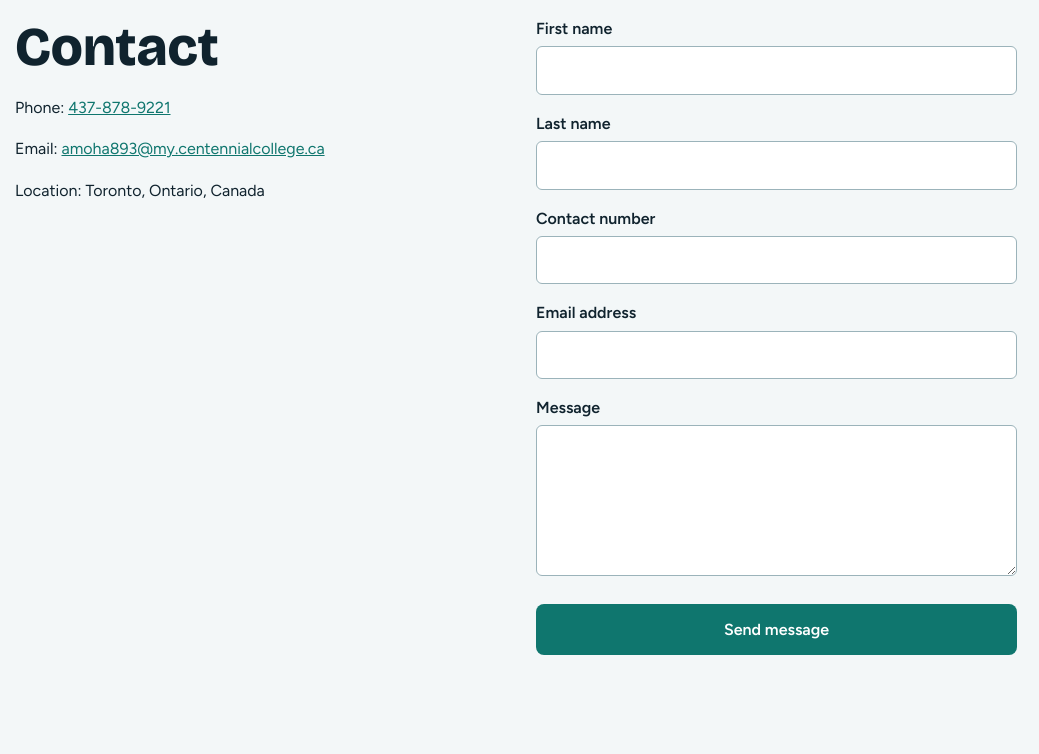
Scenario: Contact form › saves a valid message through POST /api/contacts and clears the form
This screenshot has width=1039, height=754.
Type "Sara" into the field labelled "First name" at (776, 71), box [536,46,1017,95]
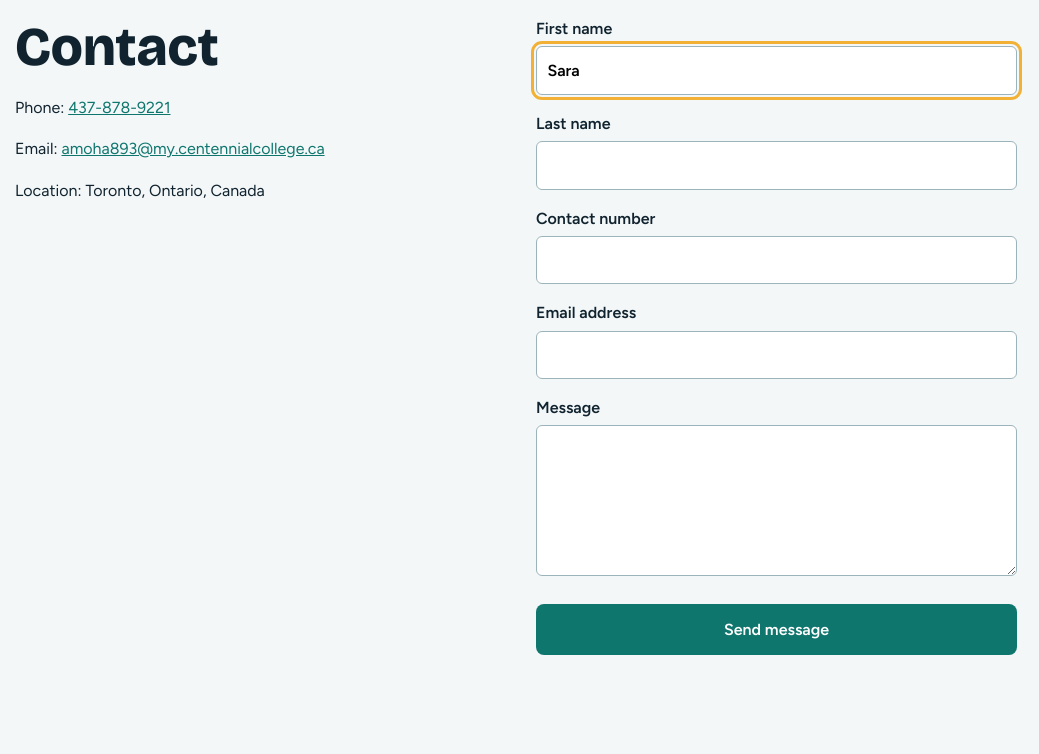
Type "Ahmadi" into the field labelled "Last name" at (776, 165), box [536,141,1017,190]
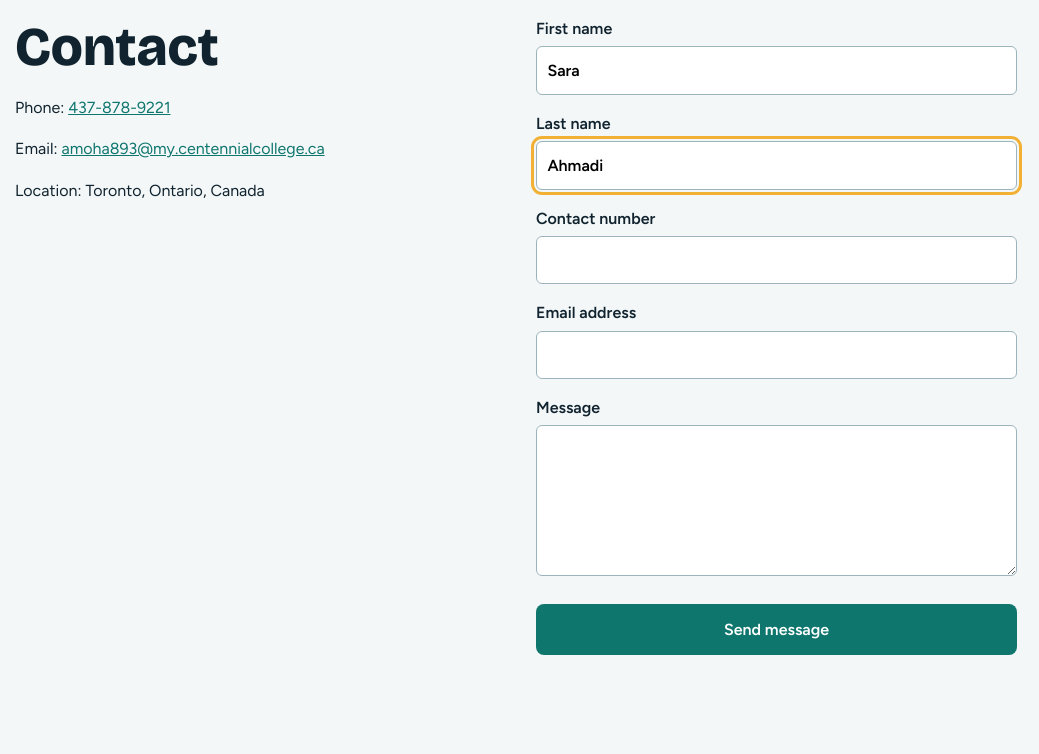
Type "sara@example.com" into the field labelled "Email address" at (776, 355), box [536,331,1017,379]
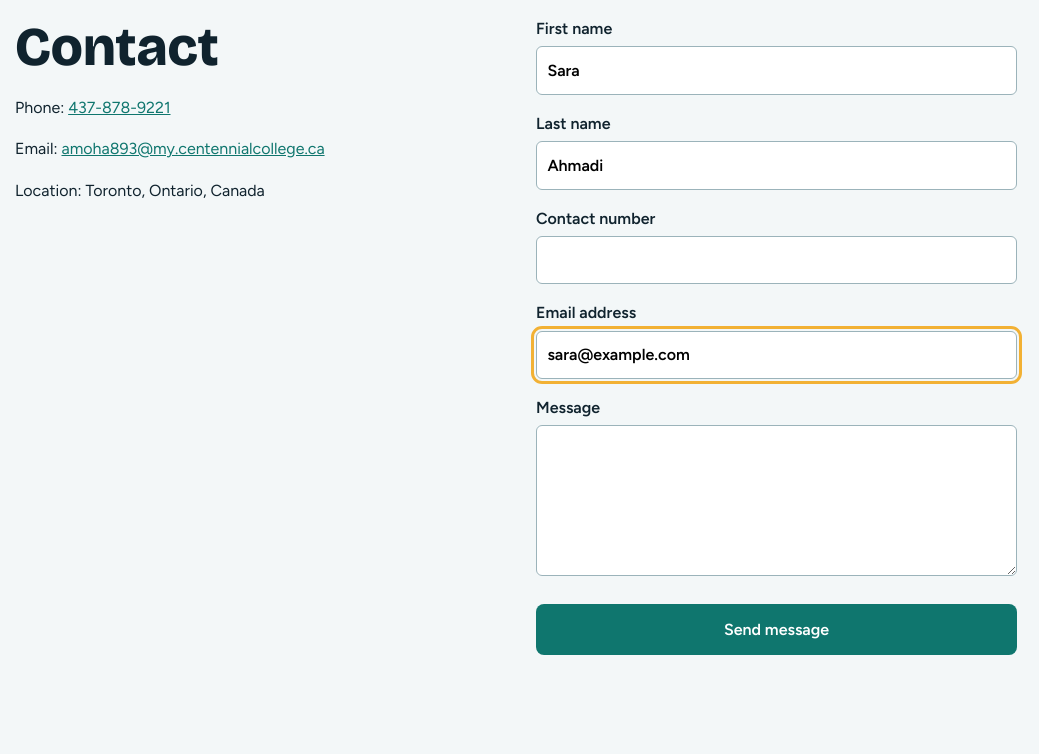
Type "Hello!" into the text box labelled "Message" at (776, 501), box [536,426,1017,576]
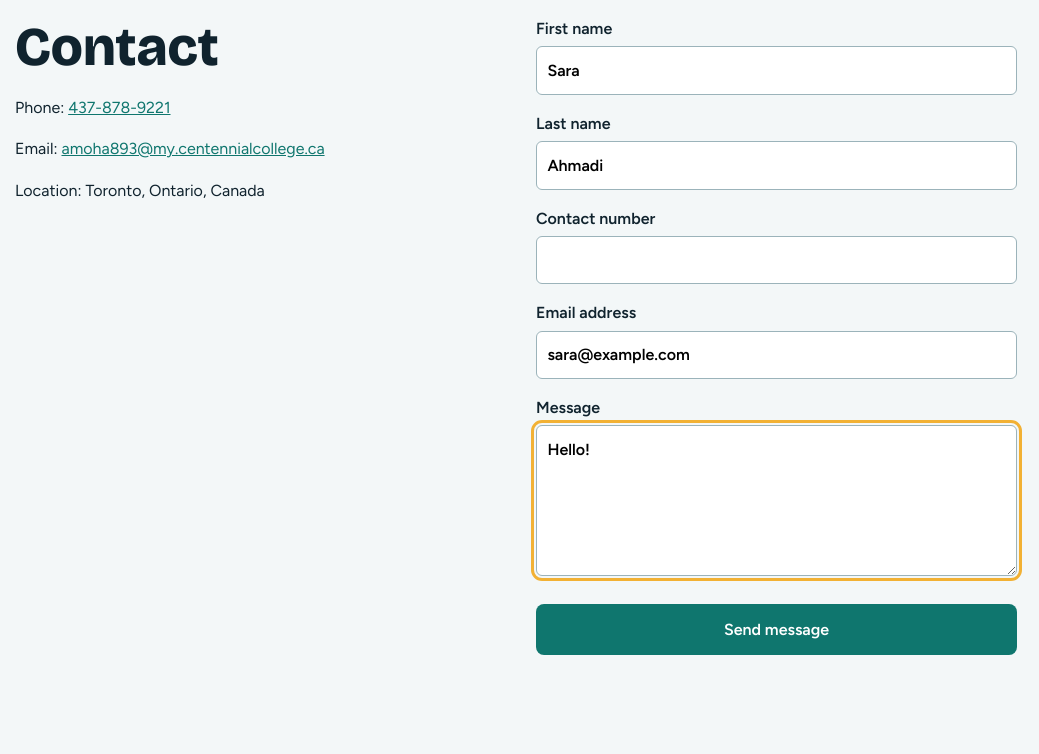
Click the button "Send message" at (776, 630), box [536,604,1017,655]
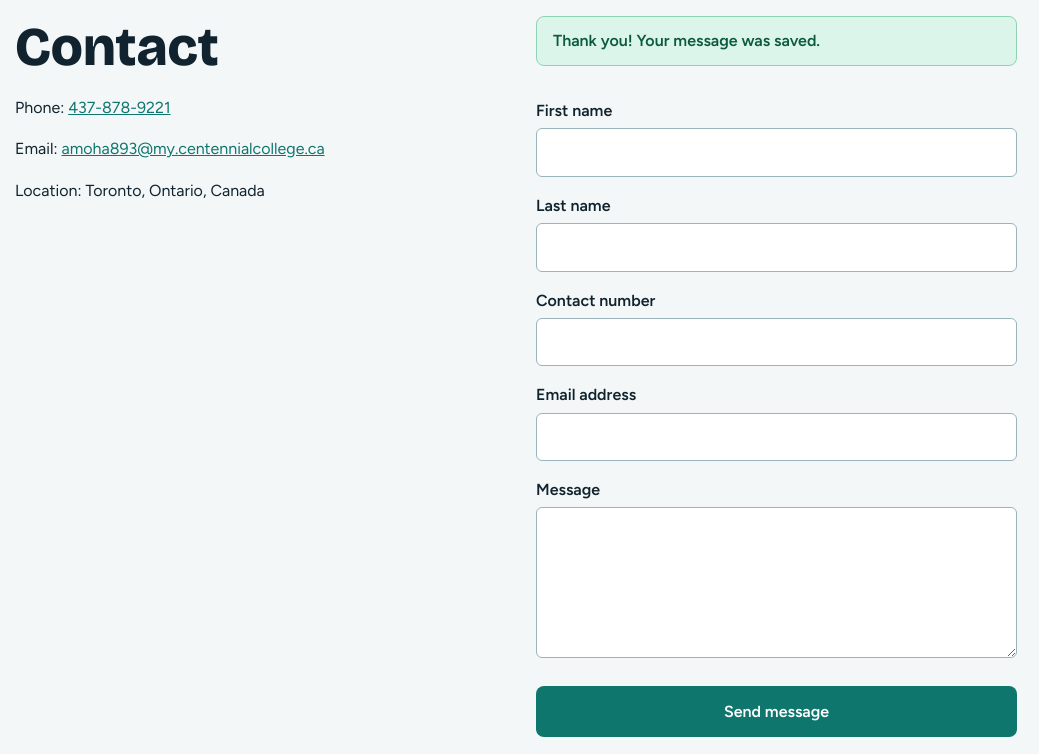
Expected: the text "Thank you! Your message was saved." is shown, [536,16,1017,66]
Expected: the field labelled "First name" is empty, [536,128,1017,177]
